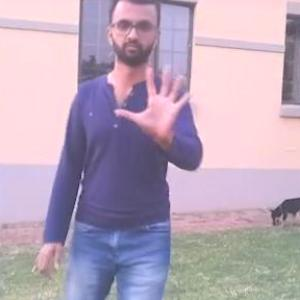follow_hand: (114, 58, 194, 140)
